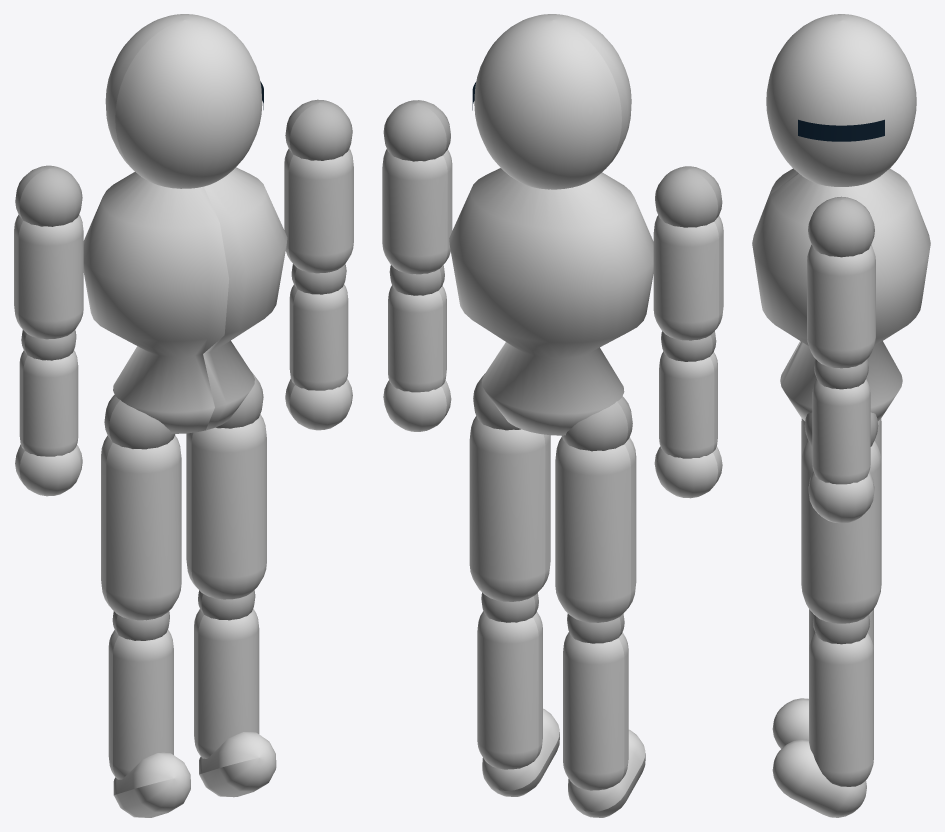
File: athletic.glb
The picture shows the model from 3 angles, left to right: view 1: azimuth 30°, elevation 25°; view 2: azimuth 150°, elevation 25°; view 3: azimuth 270°, elevation 25°; orthographic projection.
Visible parts, largest first — view 1: Torso, HeadMesh, Thigh_L, Thigh_R, Shin_L, Shin_R, UpperArm_L, UpperArm_R, ForeArm_L, ForeArm_R, Foot_L, Foot_R (+10 smaller); view 2: Torso, HeadMesh, Thigh_L, Thigh_R, Shin_L, Shin_R, UpperArm_L, UpperArm_R, ForeArm_R, ForeArm_L, Joint_LS, Joint_RS (+10 smaller); view 3: Torso, HeadMesh, Thigh_R, Shin_R, UpperArm_R, ForeArm_R, Foot_R, Joint_RS, Hand_R, Visor, Foot_L, Joint_RK (+3 smaller).
Part boxes in pixels (bbox=[...]): Torso: bbox=[83, 167, 287, 433]; HeadMesh: bbox=[105, 14, 262, 188]; Thigh_L: bbox=[101, 435, 181, 620]; Thigh_R: bbox=[186, 414, 266, 599]; Shin_L: bbox=[108, 629, 173, 779]; Shin_R: bbox=[194, 608, 259, 758]; UpperArm_L: bbox=[14, 214, 83, 339]; UpperArm_R: bbox=[284, 148, 353, 273]; ForeArm_L: bbox=[19, 350, 78, 456]; ForeArm_R: bbox=[289, 284, 348, 390]; Foot_L: bbox=[113, 752, 190, 817]; Foot_R: bbox=[199, 732, 276, 797]; Torso: bbox=[449, 168, 653, 435]; HeadMesh: bbox=[474, 14, 631, 189]; Thigh_L: bbox=[555, 437, 636, 622]; Thigh_R: bbox=[469, 416, 550, 601]; Shin_L: bbox=[563, 632, 628, 790]; Shin_R: bbox=[477, 611, 542, 769]; UpperArm_L: bbox=[653, 215, 723, 340]; UpperArm_R: bbox=[382, 149, 452, 274]; ForeArm_R: bbox=[388, 285, 446, 392]; ForeArm_L: bbox=[659, 351, 717, 458]; Joint_LS: bbox=[655, 166, 722, 227]; Joint_RS: bbox=[383, 100, 450, 161]; Torso: bbox=[752, 168, 930, 421]; HeadMesh: bbox=[766, 14, 916, 186]; Thigh_R: bbox=[801, 440, 881, 623]; Shin_R: bbox=[809, 632, 873, 786]; UpperArm_R: bbox=[807, 244, 875, 368]; ForeArm_R: bbox=[812, 379, 870, 484]; Foot_R: bbox=[772, 739, 866, 817]; Joint_RS: bbox=[808, 196, 874, 257]; Hand_R: bbox=[808, 471, 874, 523]; Visor: bbox=[798, 119, 884, 141]; Foot_L: bbox=[772, 698, 808, 748]; Joint_RK: bbox=[813, 615, 869, 644].
Bounding box in the file's own units: 0.698 × 1.58 × 0.3305.
